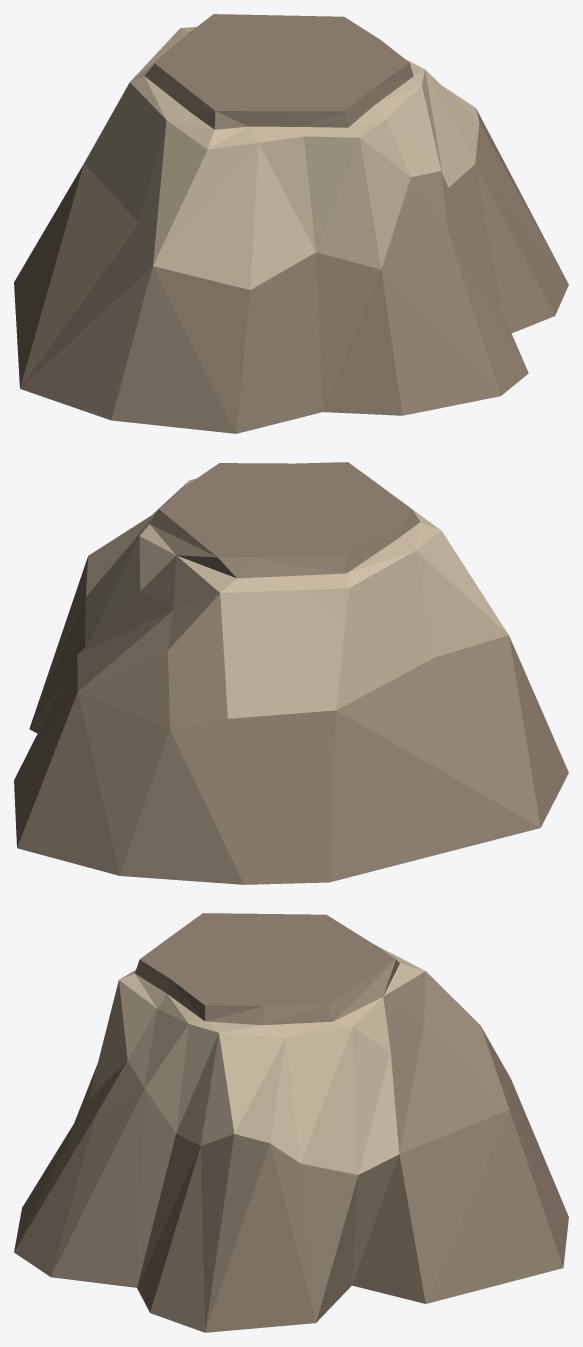
The model's file is waterPoiBase.fbx.
3 renders of one model, top to bottom at view 1: azimuth 30°, elevation 25°; view 2: azimuth 150°, elevation 25°; view 3: azimuth 270°, elevation 25°, orthographic. The views are drawn at different scales.
Parts seen in each view (by area): view 1: waterPoiBase; view 2: waterPoiBase; view 3: waterPoiBase.
Part boxes in pixels (x1,y1,x2,y2): waterPoiBase: [14, 14, 568, 433]; waterPoiBase: [14, 462, 568, 884]; waterPoiBase: [14, 913, 568, 1332].
Bounding box in the file's own units: 7.89 × 3.83 × 7.57.
Materials: 1 (1 with a texture image).
